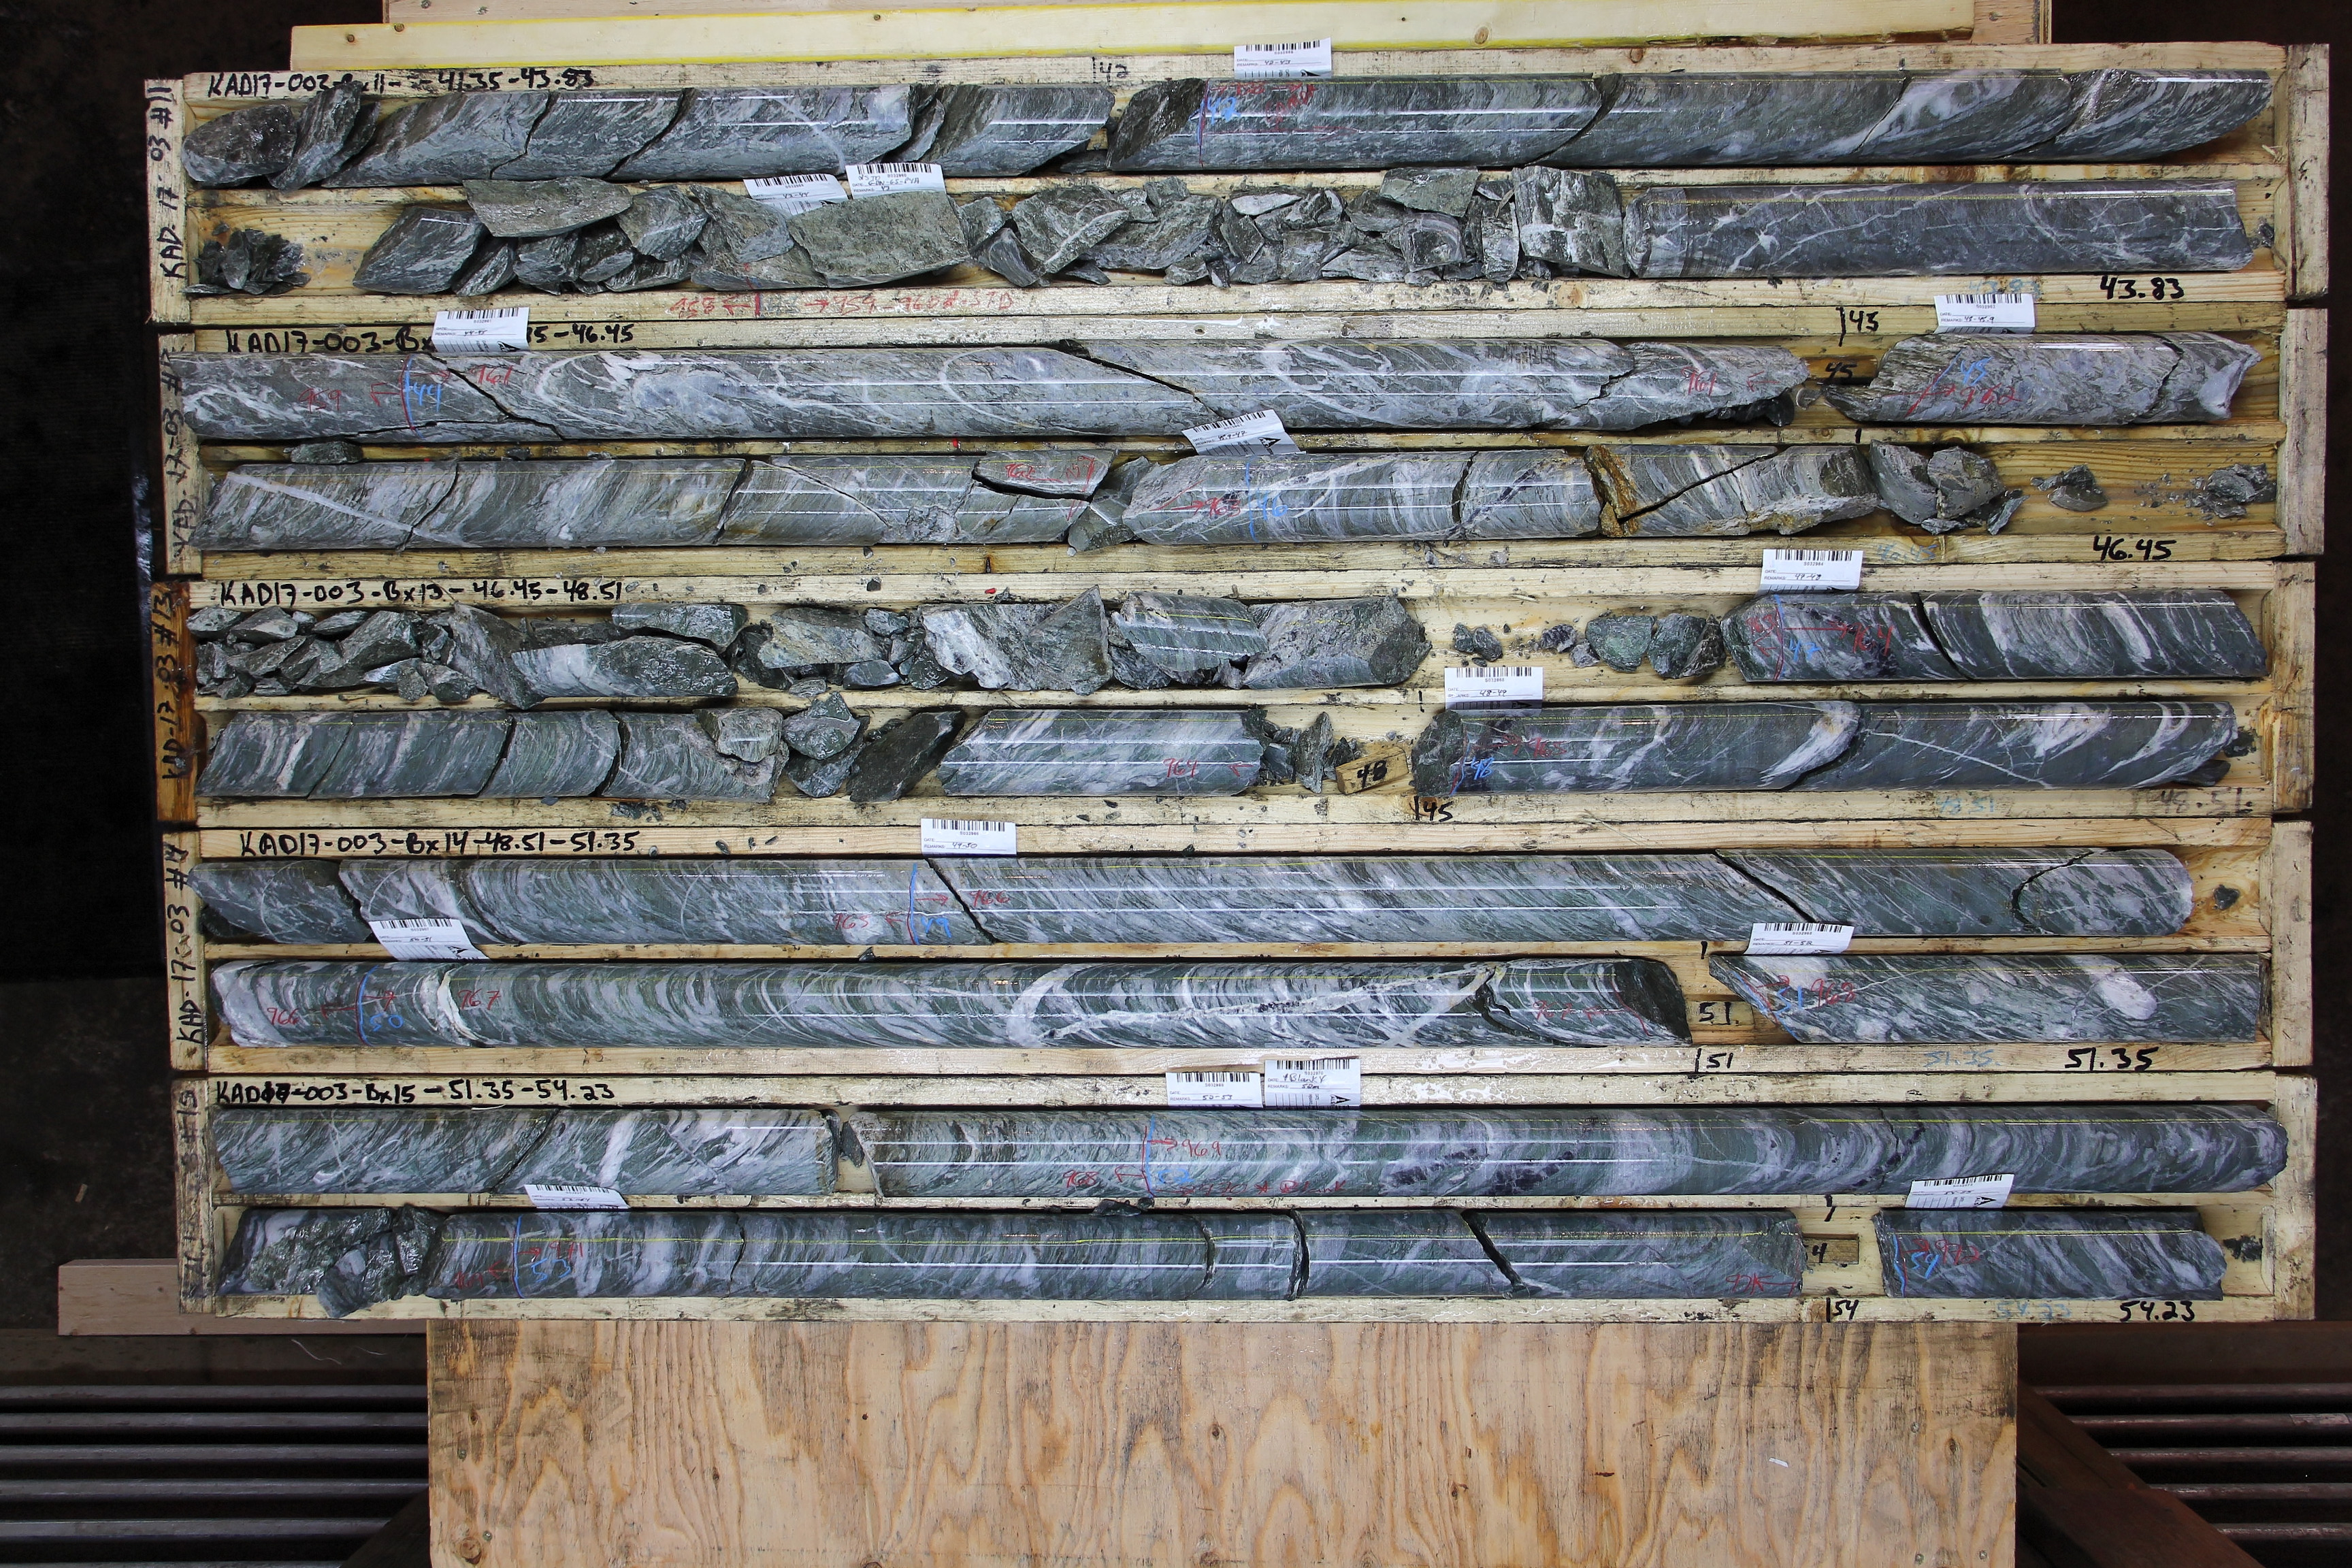rock-KAD17_003-41.35-42: (182, 85, 1203, 183)
rock-KAD17_003-42-42x: (1207, 69, 2275, 165)
rock-KAD17_003-42x-43: (353, 193, 761, 299)
rock-KAD17_003-43-43x: (761, 174, 2250, 291)
rock-KAD17_003-43x-44: (192, 351, 409, 443)
rock-KAD17_003-44-45: (407, 336, 1806, 444)
rock-KAD17_003-45-45x: (1878, 336, 2255, 425)
rock-KAD17_003-45x-46: (198, 451, 1243, 553)
rock-KAD17_003-46-46x: (1245, 438, 2002, 544)
rock-KAD17_003-46x-47: (199, 595, 1421, 701)
rock-KAD17_003-47-47x: (1733, 588, 2265, 681)
rock-KAD17_003-47x-48: (203, 706, 1265, 799)
rock-KAD17_003-48-48x: (1434, 698, 2236, 795)
rock-KAD17_003-48x-49: (198, 856, 912, 947)
rock-KAD17_003-49-49x: (916, 848, 2195, 940)
rock-KAD17_003-49x-50: (212, 960, 359, 1045)
rock-KAD17_003-50-51: (361, 964, 1681, 1043)
rock-KAD17_003-51-51x: (1754, 956, 2267, 1043)
rock-KAD17_003-51x-52: (211, 1109, 1147, 1194)
rock-KAD17_003-52-52x: (1147, 1104, 2274, 1196)
rock-KAD17_003-52x-53: (227, 1206, 521, 1297)
rock-KAD17_003-53-54: (525, 1209, 1801, 1300)
rock-KAD17_003-54-54.23: (1879, 1210, 2223, 1297)
